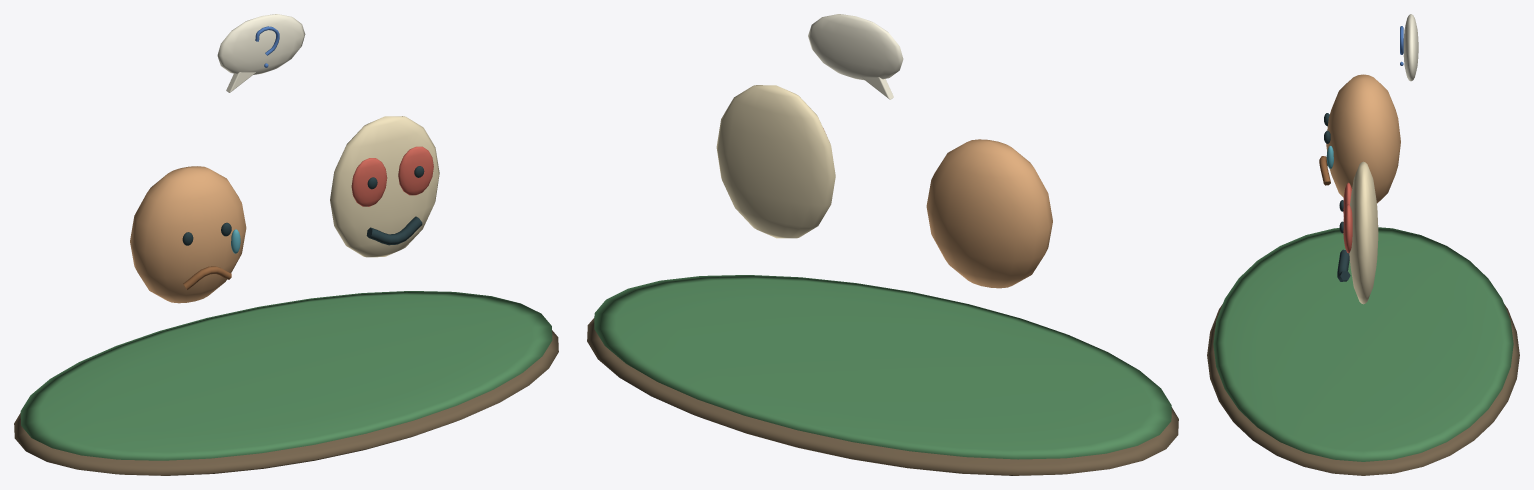
The model's file is complete-third-annoyed-angry-faces.glb.
The picture shows the model from 3 angles, left to right: view 1: azimuth 30°, elevation 25°; view 2: azimuth 150°, elevation 25°; view 3: azimuth 270°, elevation 25°; orthographic projection. The views are drawn at different scales.
Visible parts, largest first — view 1: complete-third-annoyed-angry-faces_surface_01, complete-third-annoyed-angry-faces_surface_02, complete-third-annoyed-angry-faces_surface_00, complete-third-annoyed-angry-faces_surface_06, complete-third-annoyed-angry-faces_surface_08, complete-third-annoyed-angry-faces_surface_07, complete-third-annoyed-angry-faces_surface_03; view 2: complete-third-annoyed-angry-faces_surface_01, complete-third-annoyed-angry-faces_surface_02, complete-third-annoyed-angry-faces_surface_06, complete-third-annoyed-angry-faces_surface_00, complete-third-annoyed-angry-faces_surface_08; view 3: complete-third-annoyed-angry-faces_surface_01, complete-third-annoyed-angry-faces_surface_02, complete-third-annoyed-angry-faces_surface_00, complete-third-annoyed-angry-faces_surface_06, complete-third-annoyed-angry-faces_surface_08, complete-third-annoyed-angry-faces_surface_07, complete-third-annoyed-angry-faces_surface_03.
Part boxes in pixels (bbox=[...]): complete-third-annoyed-angry-faces_surface_01: bbox=[20, 291, 552, 460]; complete-third-annoyed-angry-faces_surface_02: bbox=[130, 166, 246, 303]; complete-third-annoyed-angry-faces_surface_00: bbox=[14, 330, 558, 475]; complete-third-annoyed-angry-faces_surface_06: bbox=[330, 116, 439, 257]; complete-third-annoyed-angry-faces_surface_08: bbox=[217, 14, 305, 92]; complete-third-annoyed-angry-faces_surface_07: bbox=[351, 146, 433, 206]; complete-third-annoyed-angry-faces_surface_03: bbox=[182, 166, 424, 245]; complete-third-annoyed-angry-faces_surface_01: bbox=[594, 275, 1171, 459]; complete-third-annoyed-angry-faces_surface_02: bbox=[926, 139, 1052, 288]; complete-third-annoyed-angry-faces_surface_06: bbox=[716, 85, 835, 238]; complete-third-annoyed-angry-faces_surface_00: bbox=[587, 318, 1178, 475]; complete-third-annoyed-angry-faces_surface_08: bbox=[808, 14, 903, 99]; complete-third-annoyed-angry-faces_surface_01: bbox=[1213, 227, 1513, 461]; complete-third-annoyed-angry-faces_surface_02: bbox=[1326, 74, 1400, 203]; complete-third-annoyed-angry-faces_surface_00: bbox=[1207, 304, 1519, 475]; complete-third-annoyed-angry-faces_surface_06: bbox=[1349, 161, 1378, 304]; complete-third-annoyed-angry-faces_surface_08: bbox=[1403, 14, 1418, 81]; complete-third-annoyed-angry-faces_surface_07: bbox=[1343, 182, 1352, 253]; complete-third-annoyed-angry-faces_surface_03: bbox=[1324, 113, 1350, 281].
Size of the model in its own units: 4.56 by 3.08 by 2.5.
